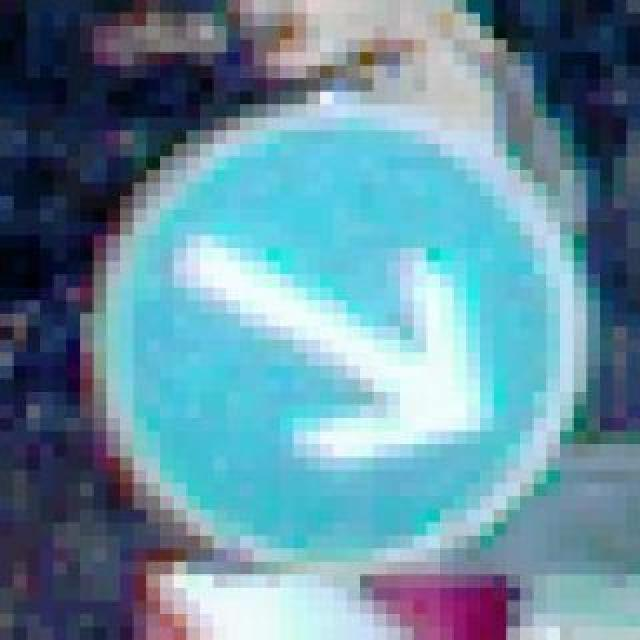keep right: (80, 92, 572, 562)
